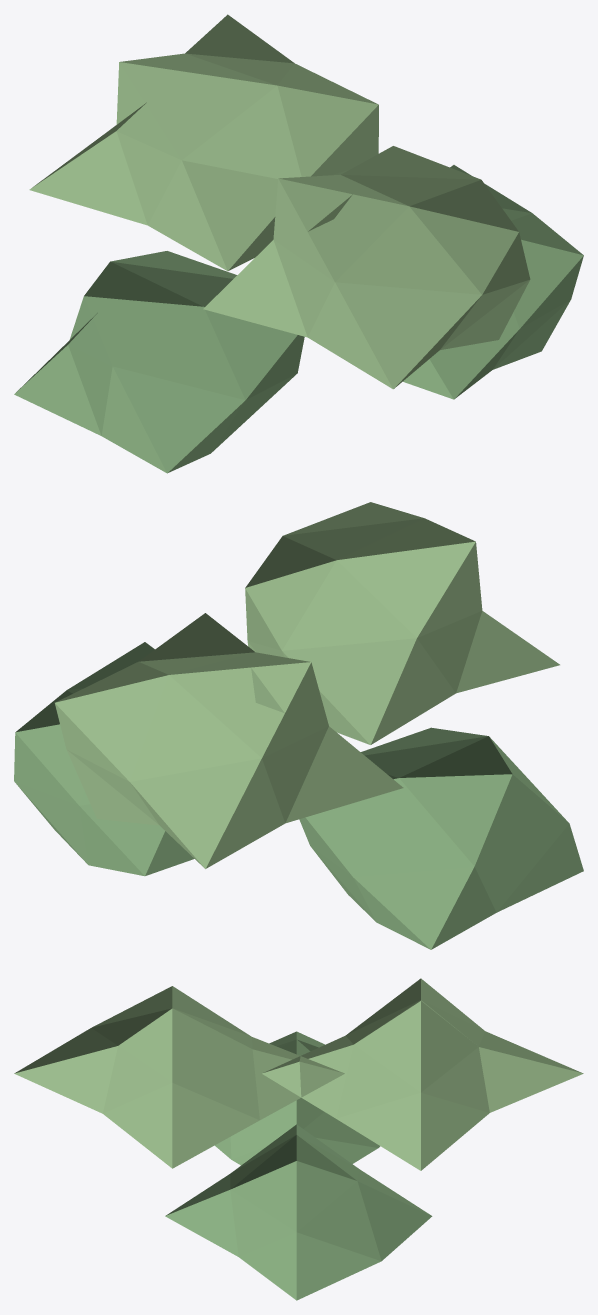
Rendered from shrub_v35.glb.
3 renders of one model, top to bottom at view 1: azimuth 30°, elevation 25°; view 2: azimuth 150°, elevation 25°; view 3: azimuth 270°, elevation 25°, orthographic. The views are drawn at different scales.
Visible parts, largest first — view 1: lod0; view 2: lod0; view 3: lod0.
Part boxes in pixels (x1,y1,x2,y2): lod0: (14,14,583,473); lod0: (14,502,583,949); lod0: (14,978,583,1300).
Size of what is drawn, in the model's own units: 0.9939 by 0.6056 by 1.15.
